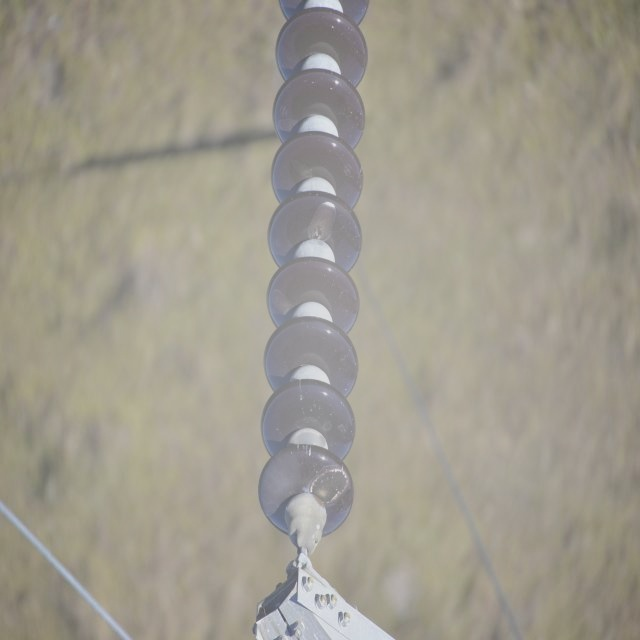insulator: (260, 0, 370, 541)
